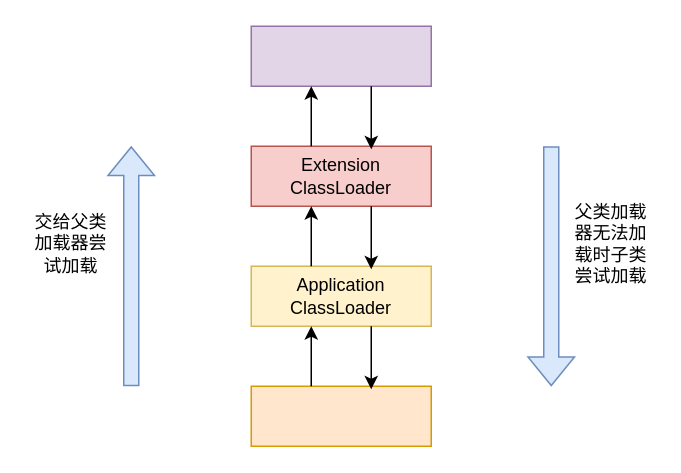
This 681x473 diagram has some shape labels left out. The shapes that lost their labels are listed below. From the top down, each one's centre as x and y in pixels, then its label:
At point 340,55: "Bootstrap ClassLoader".
At point 340,415: "Custom ClassLoader".
